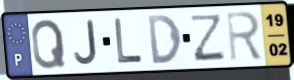D: (145, 13, 184, 67)
J: (72, 18, 100, 67)
L: (113, 16, 145, 66)
Q: (30, 18, 68, 72)
R: (225, 10, 265, 64)
Z: (191, 12, 227, 63)
